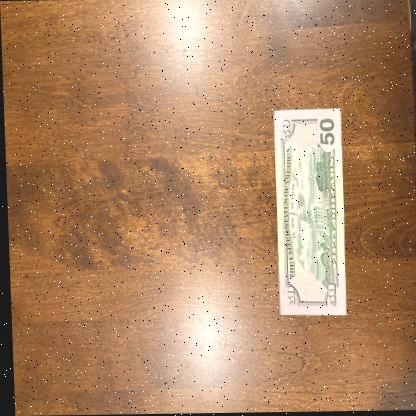fifty-back: (272, 107, 346, 316)
